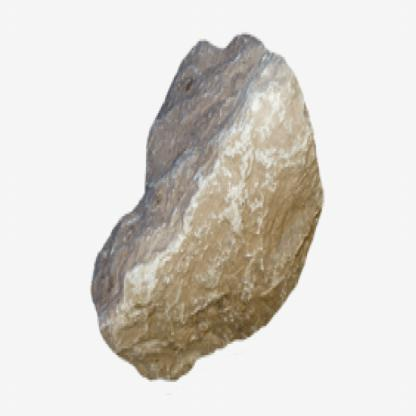Sedimentary_Limestone: (87, 29, 326, 385)
